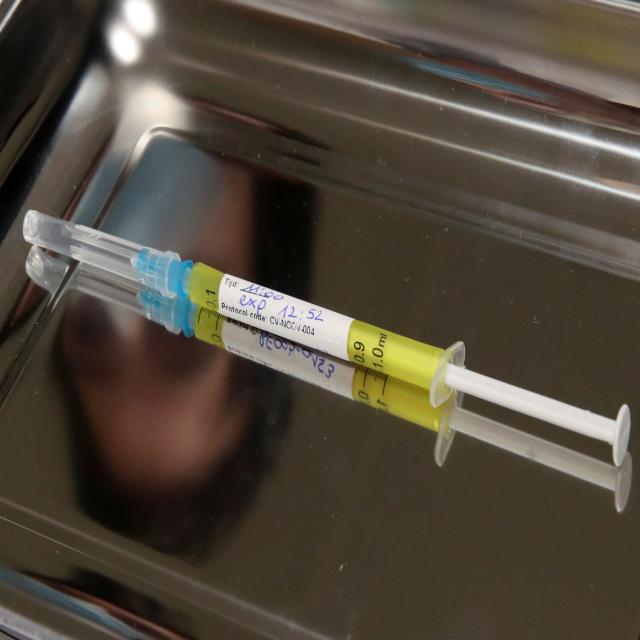B3: (8, 178, 635, 511)
